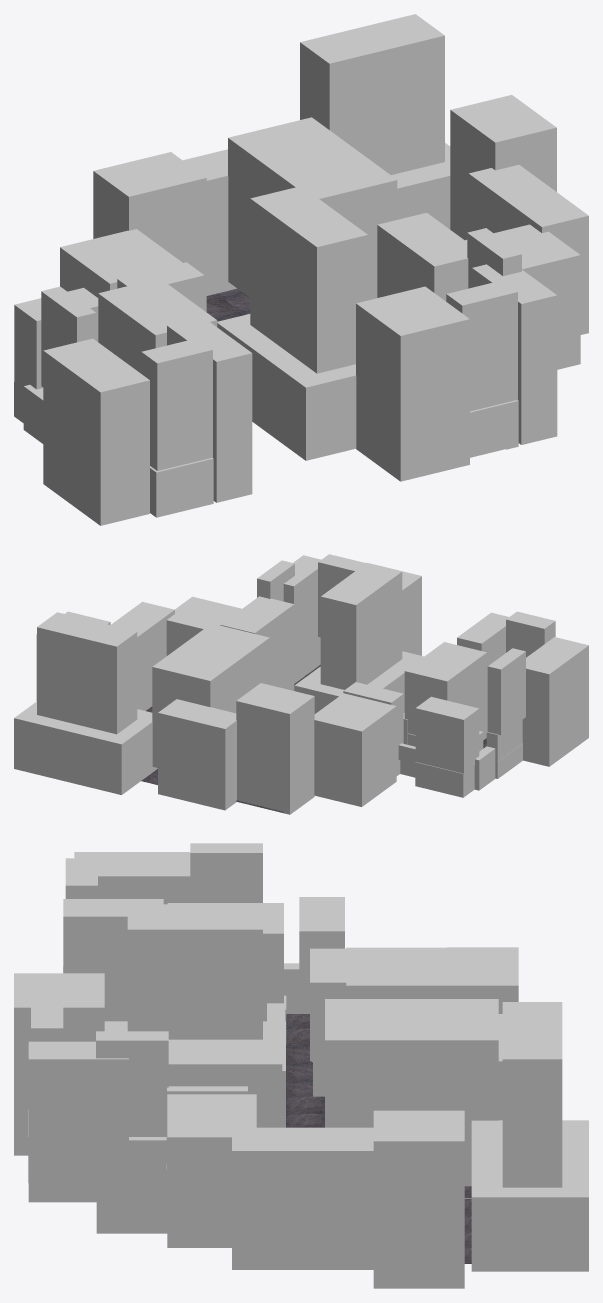
The model's file is mapa0001.glb.
3 views of the same model, one above another, from view 1: azimuth 30°, elevation 25°; view 2: azimuth 150°, elevation 25°; view 3: azimuth 270°, elevation 25° (orthographic). The views are drawn at different scales.
Parts seen in each view (by area): view 1: Cube.061, Cube.138, Cube.093, Cube.055, Cube.064, Cube.063, Cube.136, Cube.058, Cube.059, Cube.137, Cube.065, Cube.095 (+12 smaller); view 2: Cube.138, Cube.061, Cube.063, Cube.052, Cube.064, Cube.062, Cube.055, Cube.060, Cube.054, Cube.095, Cube.065, Cube.137 (+12 smaller); view 3: Cube.138, Cube.064, Cube.137, Cube.061, Cube.136, Cube.065, Cube.107, Cube.095, Cube.093, Cube.059, Cube.052, Cube.094 (+12 smaller).
Boxes of the visible parts, x1,y1,x2,y2 form: Cube.061: [217, 186, 367, 460]; Cube.138: [300, 14, 450, 229]; Cube.093: [356, 286, 469, 481]; Cube.055: [43, 338, 149, 525]; Cube.064: [228, 117, 397, 300]; Cube.063: [93, 152, 206, 311]; Cube.136: [450, 95, 556, 240]; Cube.058: [141, 338, 212, 470]; Cube.059: [167, 317, 252, 502]; Cube.137: [468, 165, 588, 334]; Cube.065: [472, 264, 557, 444]; Cube.095: [377, 212, 468, 301]; Cube.138: [14, 612, 157, 794]; Cube.061: [294, 562, 423, 713]; Cube.063: [236, 683, 314, 814]; Cube.052: [314, 693, 396, 806]; Cube.064: [152, 623, 269, 767]; Cube.062: [158, 699, 236, 810]; Cube.055: [522, 637, 588, 766]; Cube.060: [404, 642, 486, 734]; Cube.054: [415, 696, 479, 773]; Cube.095: [220, 596, 294, 690]; Cube.065: [283, 555, 320, 683]; Cube.137: [111, 602, 174, 710]; Cube.138: [471, 1002, 588, 1271]; Cube.064: [325, 999, 498, 1186]; Cube.137: [232, 1127, 373, 1269]; Cube.061: [104, 904, 285, 1127]; Cube.136: [373, 1110, 464, 1288]; Cube.065: [28, 1041, 128, 1202]; Cube.107: [167, 1094, 256, 1247]; Cube.095: [166, 1039, 282, 1164]; Cube.093: [14, 973, 104, 1155]; Cube.059: [63, 899, 163, 1021]; Cube.052: [346, 947, 446, 998]; Cube.094: [96, 1031, 168, 1136].
Bounding box in the file's own units: 555 × 205 × 451.
99 materials, 99 textured.
